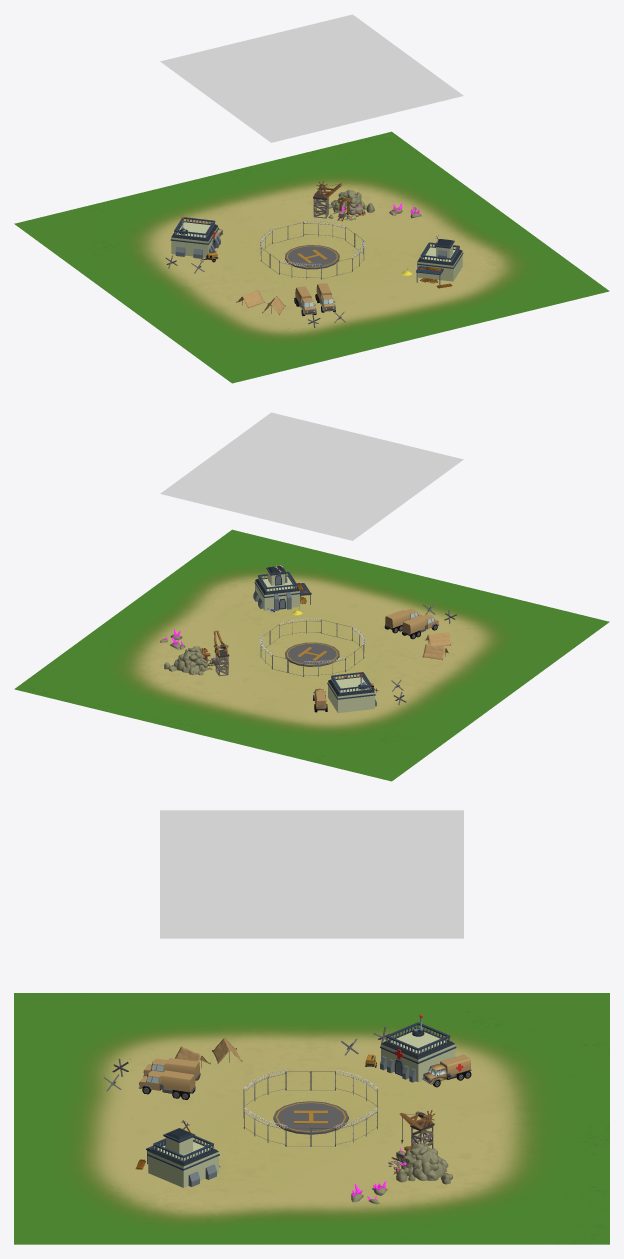
File: map_demonstration.fbx
3 views of the same model, one above another, from view 1: azimuth 30°, elevation 25°; view 2: azimuth 150°, elevation 25°; view 3: azimuth 270°, elevation 25° (orthographic). The views are drawn at different scales.
Visible parts, largest first — view 1: ground, Plane, hospital, builder_house, Spike.001, cave_entrance, Cylinder, metal_fence; view 2: ground, Plane, hospital, builder_house, Spike.001, cave_entrance, Cylinder, metal_fence; view 3: ground, Plane, hospital, builder_house, Spike.001, cave_entrance, Cylinder, metal_fence.
Boxes of the visible parts, x1,y1,x2,y2 form: ground: [14, 131, 609, 383]; Plane: [160, 14, 463, 142]; hospital: [170, 217, 223, 262]; builder_house: [401, 234, 463, 288]; Spike.001: [236, 283, 345, 327]; cave_entrance: [313, 181, 374, 221]; Cylinder: [285, 245, 339, 269]; metal_fence: [260, 221, 364, 278]; ground: [14, 529, 609, 781]; Plane: [160, 412, 463, 540]; hospital: [313, 672, 378, 712]; builder_house: [253, 565, 311, 615]; Spike.001: [384, 603, 456, 660]; cave_entrance: [164, 630, 229, 676]; Cylinder: [285, 642, 339, 666]; metal_fence: [260, 618, 364, 676]; ground: [14, 993, 609, 1244]; Plane: [160, 810, 463, 938]; hospital: [365, 1014, 471, 1087]; builder_house: [135, 1120, 219, 1187]; Spike.001: [103, 1038, 242, 1099]; cave_entrance: [388, 1110, 452, 1184]; Cylinder: [273, 1101, 348, 1134]; metal_fence: [243, 1070, 378, 1144].
Bounding box in the file's own units: 2400 × 1092 × 2400.
